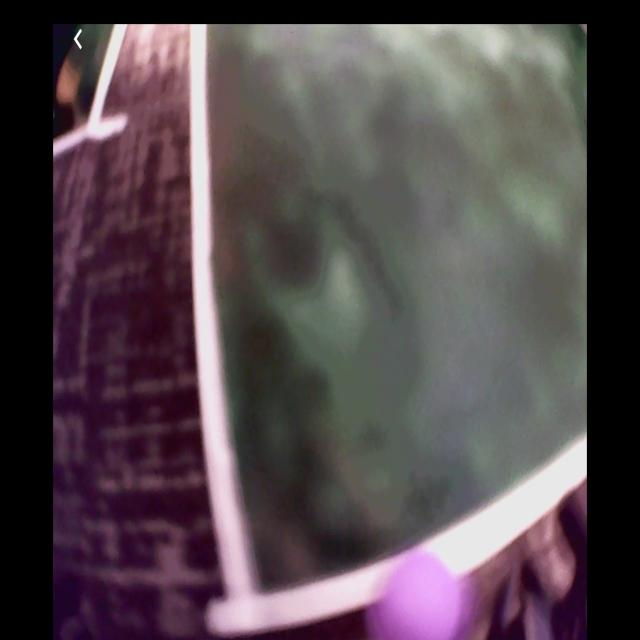ball: (367, 552, 465, 640)
